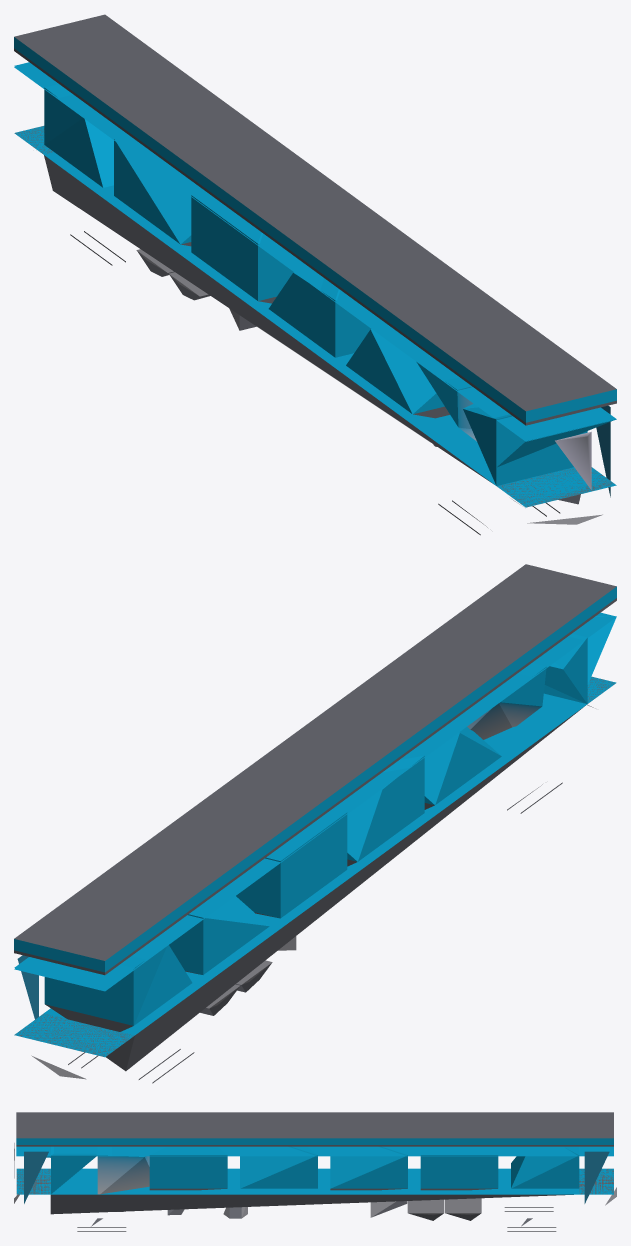
The model's file is passenger-car.lod2.glb.
3 renders of one model, top to bottom at view 1: azimuth 30°, elevation 25°; view 2: azimuth 150°, elevation 25°; view 3: azimuth 270°, elevation 25°, orthographic. The views are drawn at different scales.
Visible parts, largest first — view 1: wheel_medium_steel(Clone)_0; view 2: wheel_medium_steel(Clone)_0; view 3: wheel_medium_steel(Clone)_0.
Boxes of the visible parts, left/top/right/bottom form: wheel_medium_steel(Clone)_0: left=14, top=14, right=616, bottom=535; wheel_medium_steel(Clone)_0: left=14, top=564, right=616, bottom=1083; wheel_medium_steel(Clone)_0: left=14, top=1112, right=616, bottom=1231.
Size of the model in its own units: 2.1 by 3.42 by 19.65.
